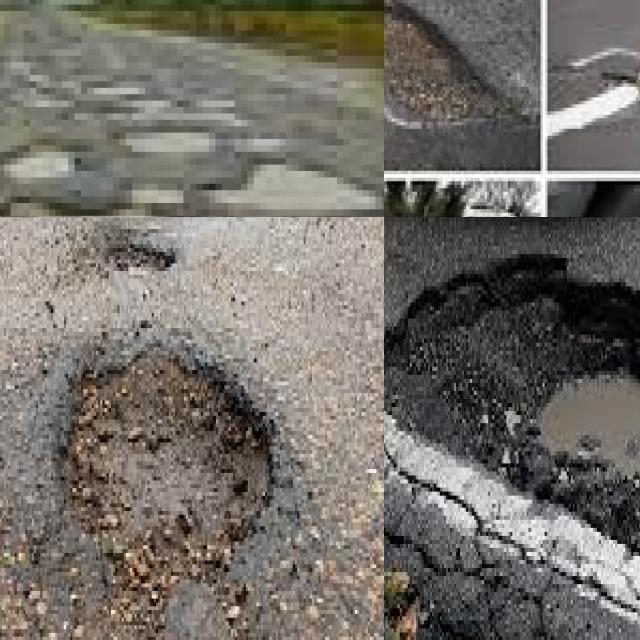Pothole: (384, 254, 640, 560), (70, 340, 271, 640), (384, 0, 520, 129), (215, 165, 382, 216), (126, 126, 215, 158), (4, 145, 75, 177)
